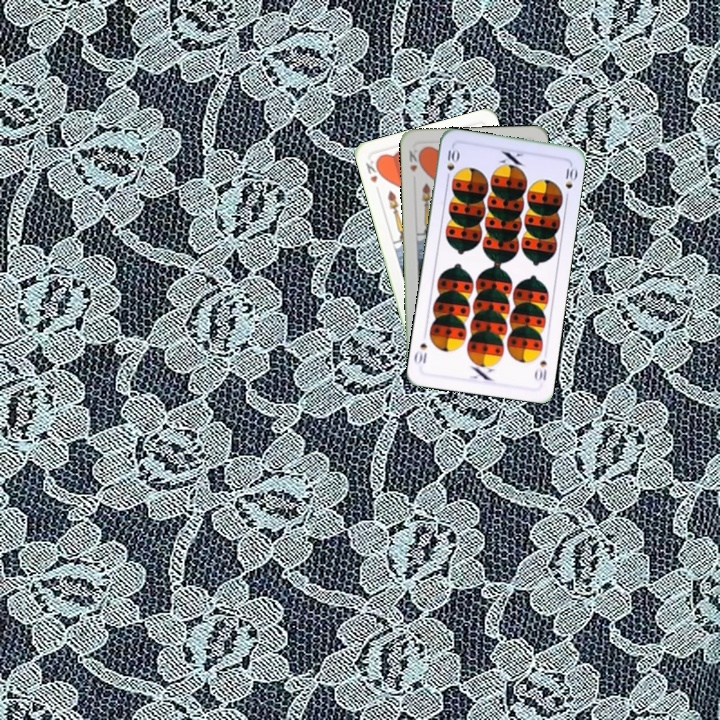HK: (362, 154, 384, 186), (405, 146, 423, 175)
S10: (442, 143, 461, 183), (531, 357, 549, 383)
